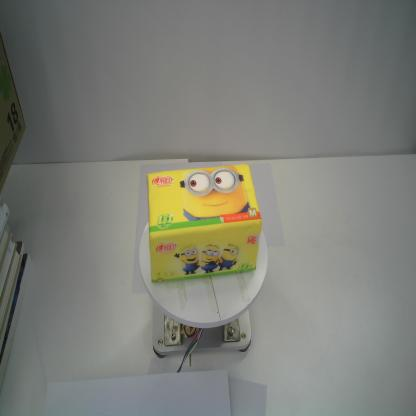Tissue: (144, 161, 263, 286)
